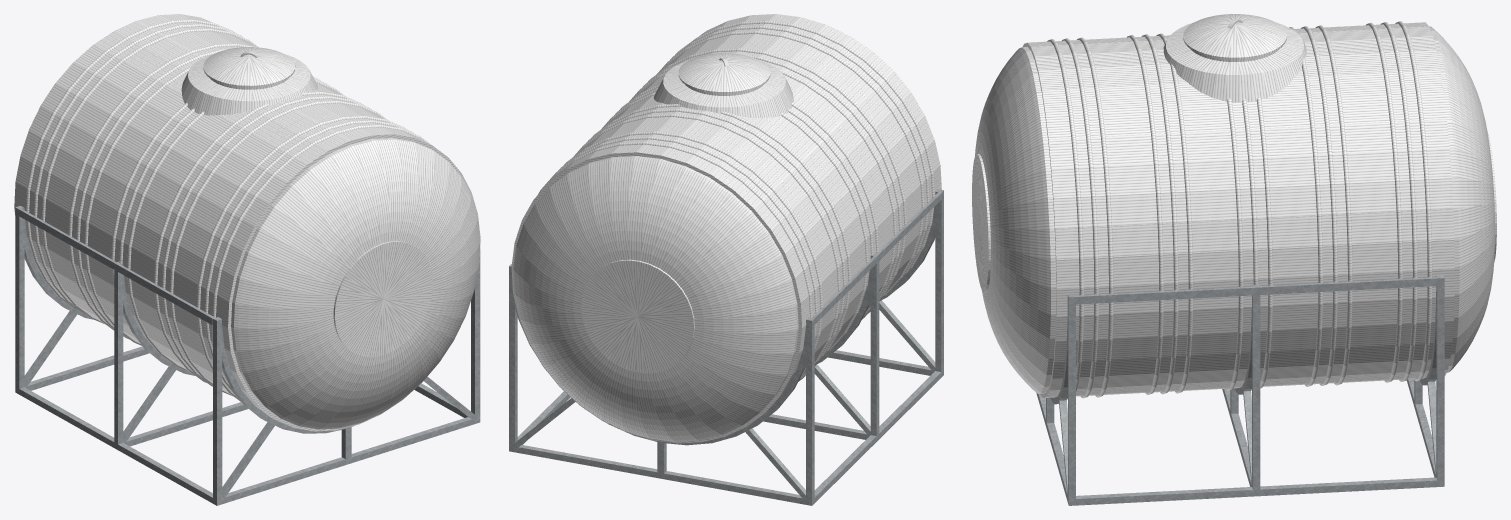
Rendered from ket-nuoc-inox02.glb.
3 renders of one model, left to right at view 1: azimuth 30°, elevation 25°; view 2: azimuth 150°, elevation 25°; view 3: azimuth 270°, elevation 25°, orthographic. The views are drawn at different scales.
Parts seen in each view (by area): view 1: C-Component#6.001, G-Object, C-Component#5, C-Component#5.001, C-Component#5.003, C-Component#5.002, C-Component#5.004, _G-Object.002 (Loose Mesh); view 2: C-Component#6, G-Object, C-Component#5, C-Component#5.003, C-Component#5.002, C-Component#5.001, C-Component#5.004, _G-Object.002 (Loose Mesh); view 3: C-Component#5, C-Component#5.003, C-Component#5.001, C-Component#5.002, C-Component#6.001, C-Component#5.004, G-Object, C-Component#6, _G-Object.002 (Loose Mesh).
Boxes of the visible parts, x1=… form: C-Component#6.001: x1=228, y1=134, x2=480, y2=431; G-Object: x1=15, y1=206, x2=480, y2=505; C-Component#5: x1=14, y1=14, x2=258, y2=323; C-Component#5.001: x1=142, y1=88, x2=388, y2=396; C-Component#5.003: x1=185, y1=110, x2=436, y2=419; C-Component#5.002: x1=57, y1=38, x2=256, y2=345; C-Component#5.004: x1=100, y1=77, x2=345, y2=372; _G-Object.002 (Loose Mesh): x1=181, y1=47, x2=317, y2=115; C-Component#6: x1=511, y1=156, x2=801, y2=443; G-Object: x1=509, y1=189, x2=943, y2=505; C-Component#5: x1=511, y1=124, x2=829, y2=438; C-Component#5.003: x1=657, y1=14, x2=941, y2=299; C-Component#5.002: x1=573, y1=101, x2=857, y2=381; C-Component#5.001: x1=629, y1=41, x2=913, y2=319; C-Component#5.004: x1=602, y1=81, x2=885, y2=354; _G-Object.002 (Loose Mesh): x1=653, y1=53, x2=793, y2=117; C-Component#5: x1=1346, y1=21, x2=1454, y2=382; C-Component#5.003: x1=1028, y1=37, x2=1136, y2=398; C-Component#5.001: x1=1107, y1=33, x2=1215, y2=394; C-Component#5.002: x1=1282, y1=25, x2=1375, y2=386; C-Component#6.001: x1=972, y1=42, x2=1056, y2=397; C-Component#5.004: x1=1203, y1=90, x2=1295, y2=390; G-Object: x1=1036, y1=275, x2=1444, y2=505; C-Component#6: x1=1429, y1=26, x2=1496, y2=372; _G-Object.002 (Loose Mesh): x1=1163, y1=14, x2=1306, y2=102.
Size of the model in its own units: 1.39 by 1.48 by 1.77.
Materials: 3 (2 with a texture image).
